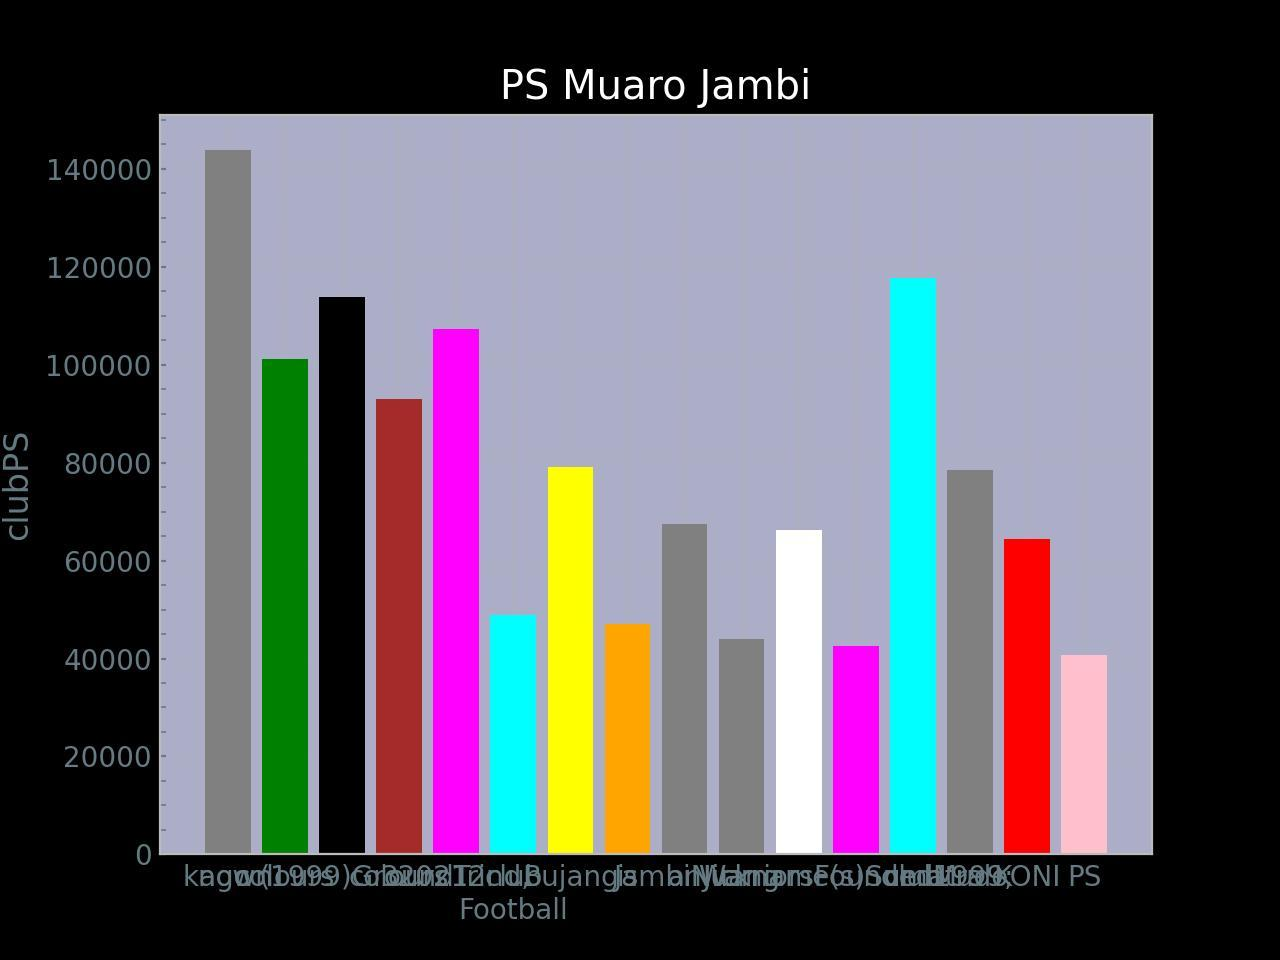axis: (1, 157, 151, 871)
rectangle: (205, 150, 251, 854), (890, 278, 936, 854), (319, 297, 365, 854), (433, 329, 479, 854), (262, 359, 308, 854), (376, 399, 422, 854), (547, 467, 594, 854), (947, 471, 993, 854), (661, 524, 708, 854), (775, 529, 821, 854), (1004, 539, 1050, 854), (491, 615, 536, 854), (605, 624, 650, 854), (719, 638, 765, 854), (833, 645, 879, 854), (1061, 654, 1107, 854)
